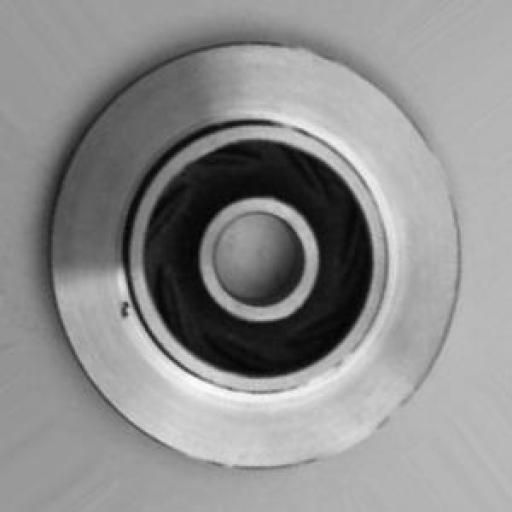defect: (85, 268, 153, 342)
